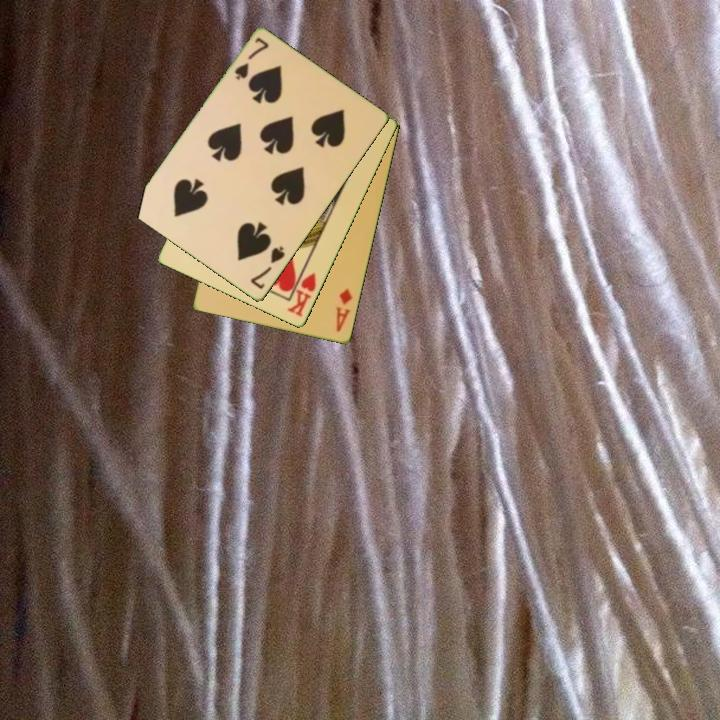7s: (247, 243, 288, 292), (231, 34, 272, 83)
Ad: (332, 285, 355, 335)
Kh: (284, 263, 319, 320)
